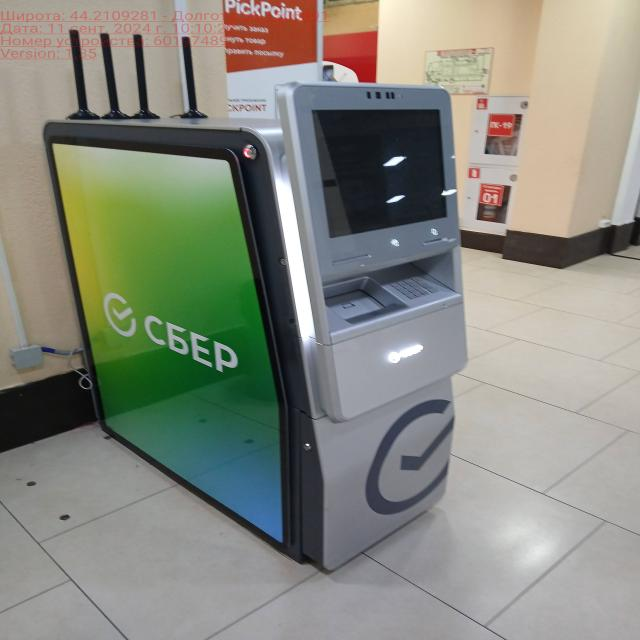bank: (44, 72, 477, 567)
